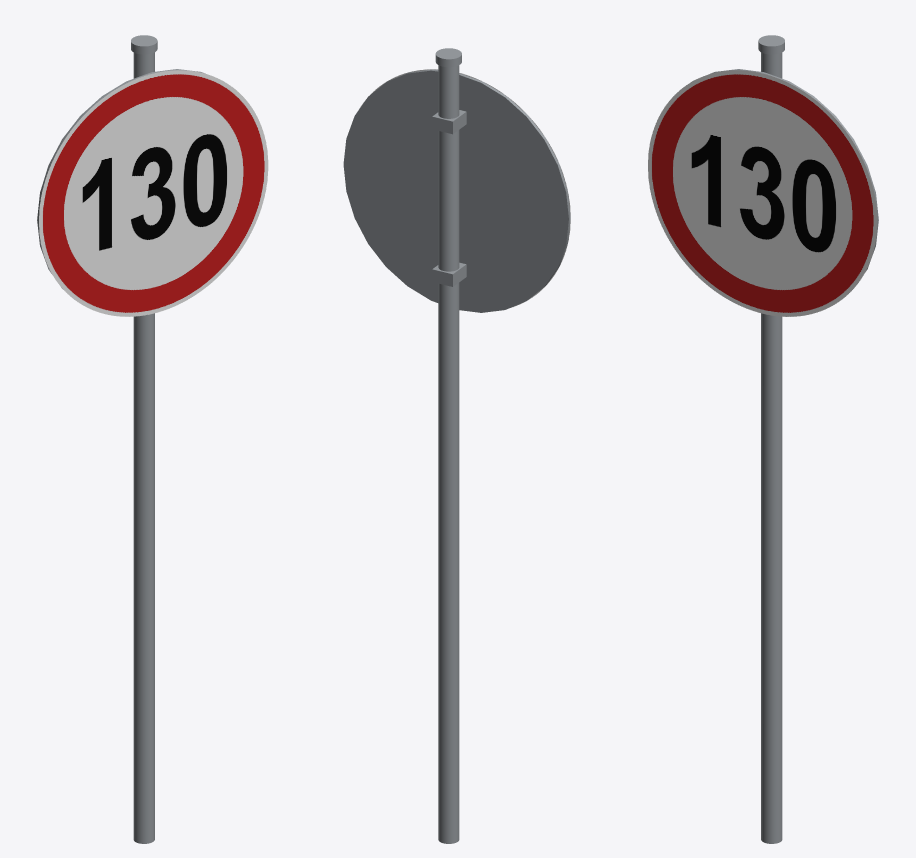
Rendered from sign_speed130kph.dae.
3 views of the same model, side by side, from view 1: azimuth 30°, elevation 25°; view 2: azimuth 150°, elevation 25°; view 3: azimuth 330°, elevation 25° (orthographic).
Visible parts, largest first — view 1: sign_speed130kph; view 2: sign_speed130kph; view 3: sign_speed130kph.
Boxes of the visible parts, x1,y1,x2,y2 form: sign_speed130kph: [37, 35, 268, 843]; sign_speed130kph: [343, 48, 570, 843]; sign_speed130kph: [648, 35, 878, 843].
Bounding box in the file's own units: 0.9 × 0.0895 × 2.47.
Materials: 2 (1 with a texture image).
